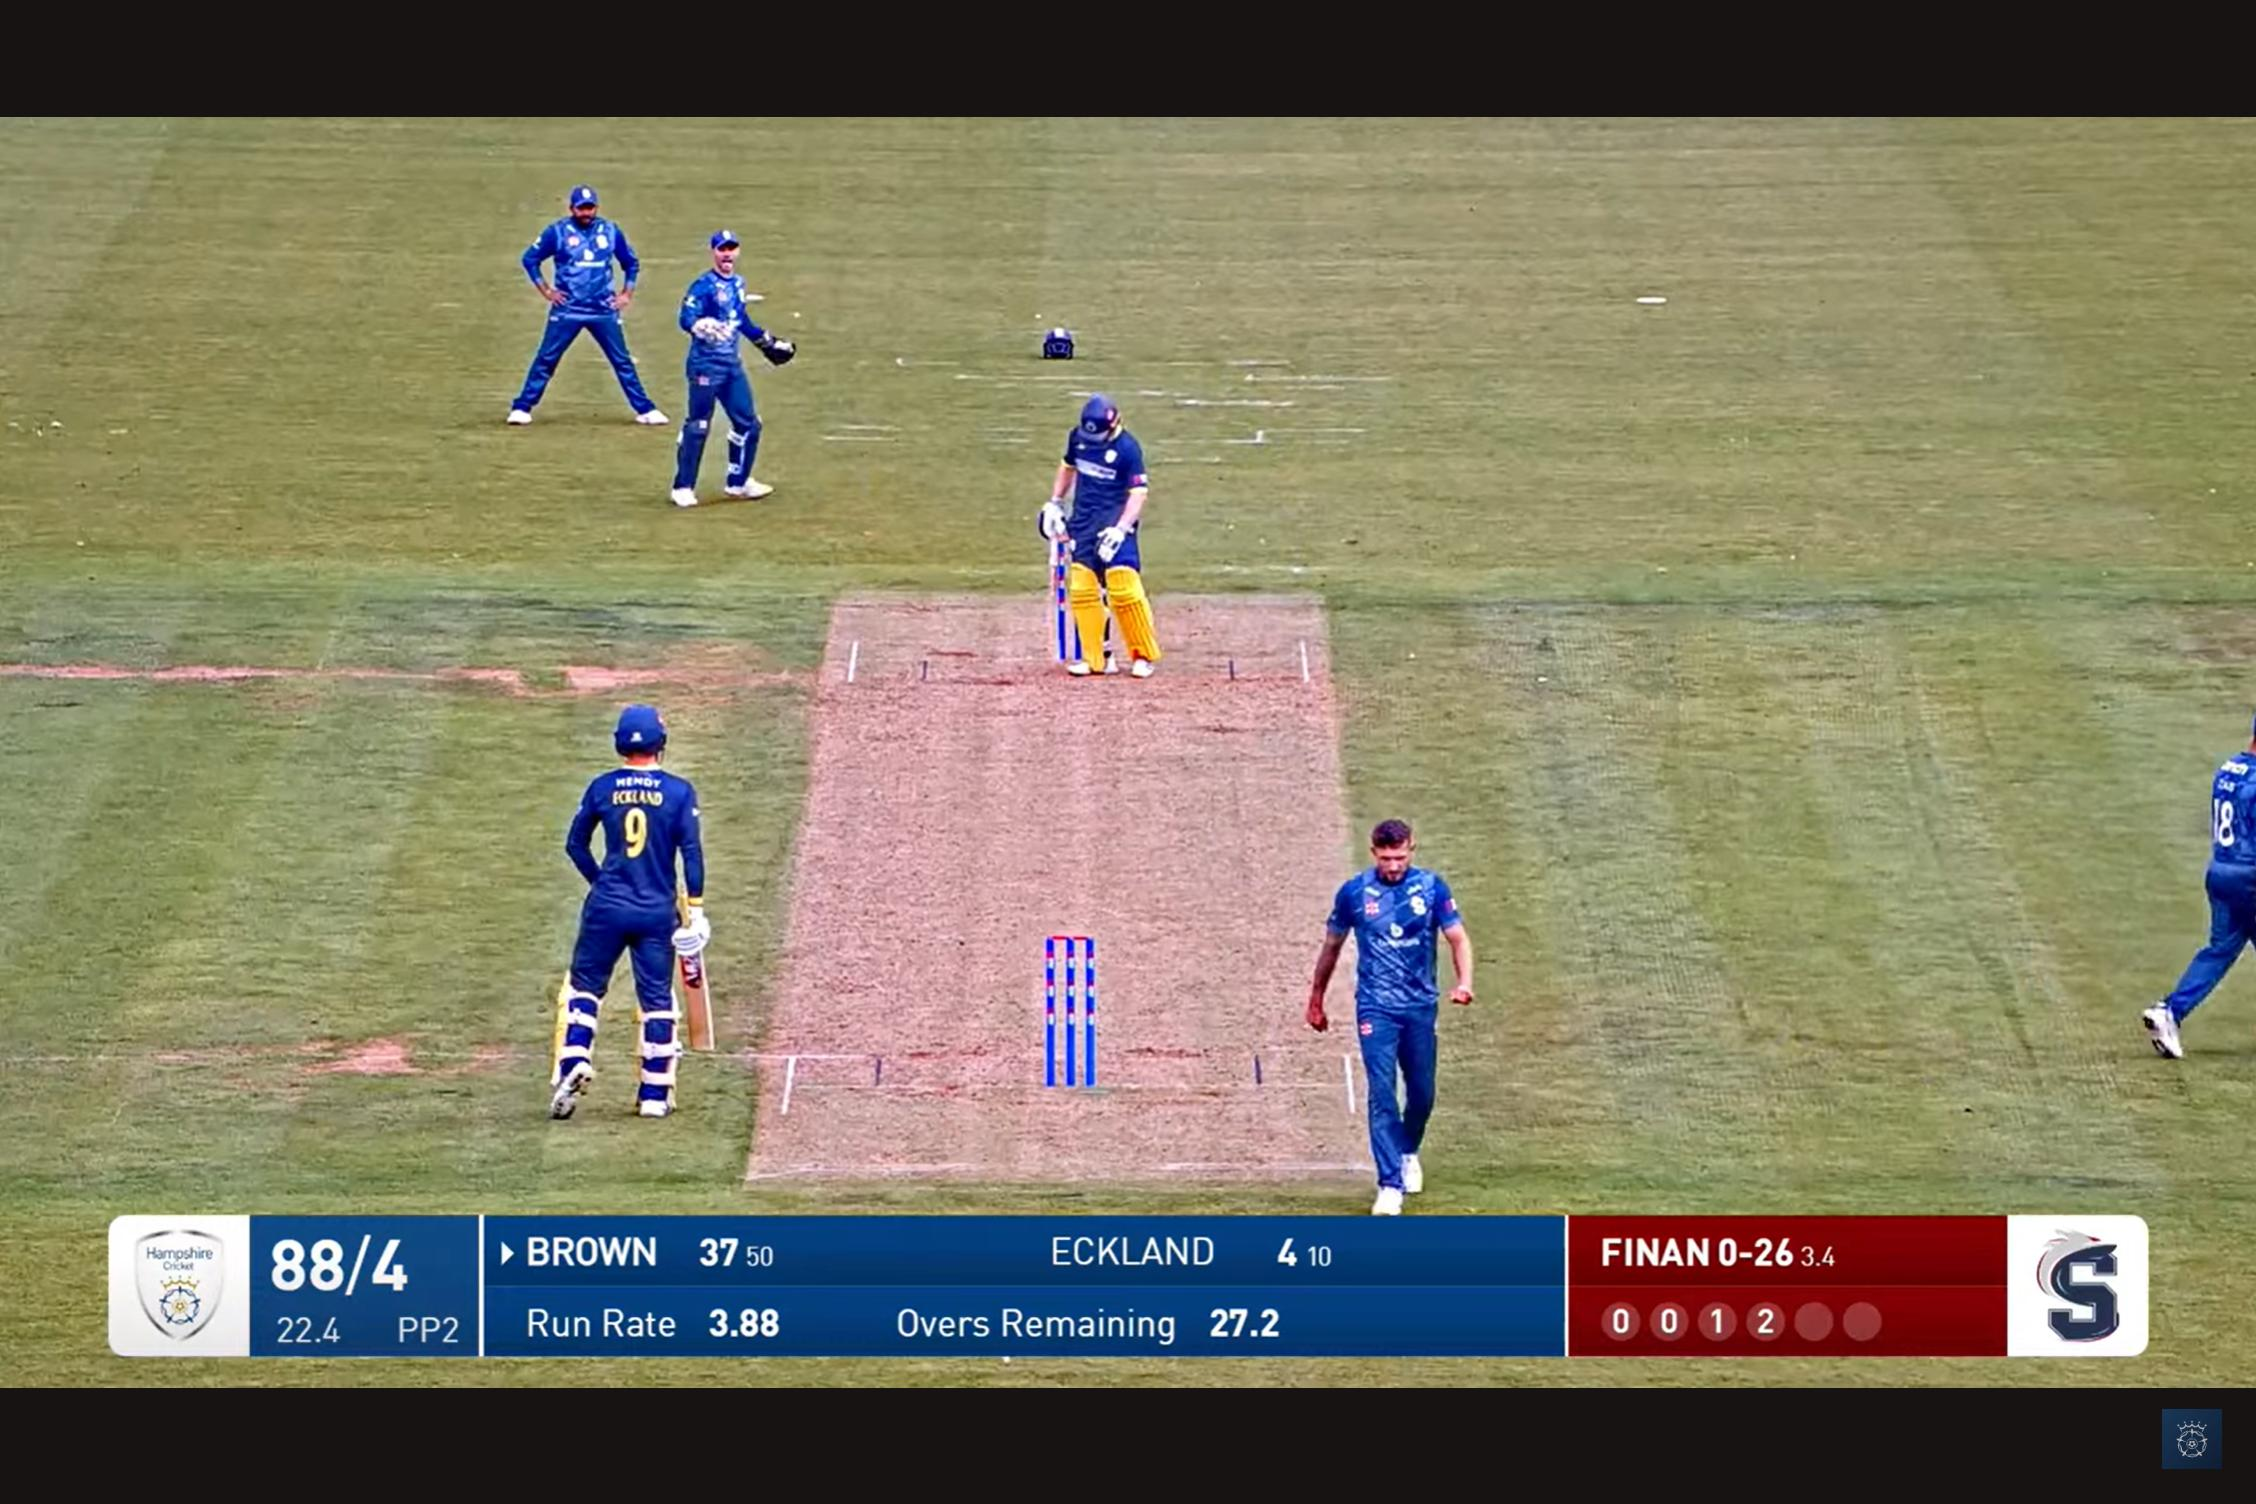batsman: (1026, 373, 1182, 700)
bowler walking back: (1281, 786, 1527, 1210)
non striker: (509, 683, 732, 1130)
stumps: (1029, 908, 1113, 1111)
wicket keeper: (656, 211, 817, 520)
